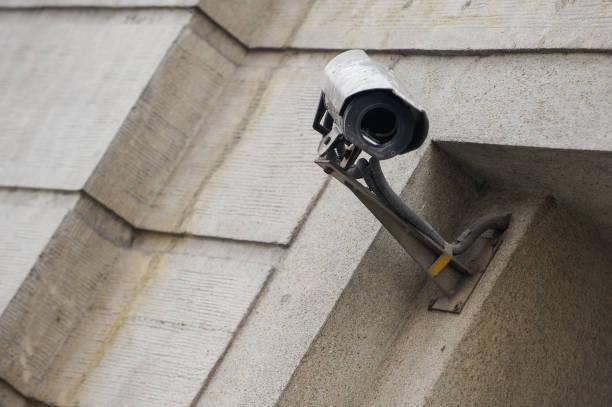camera: (295, 35, 448, 186)
